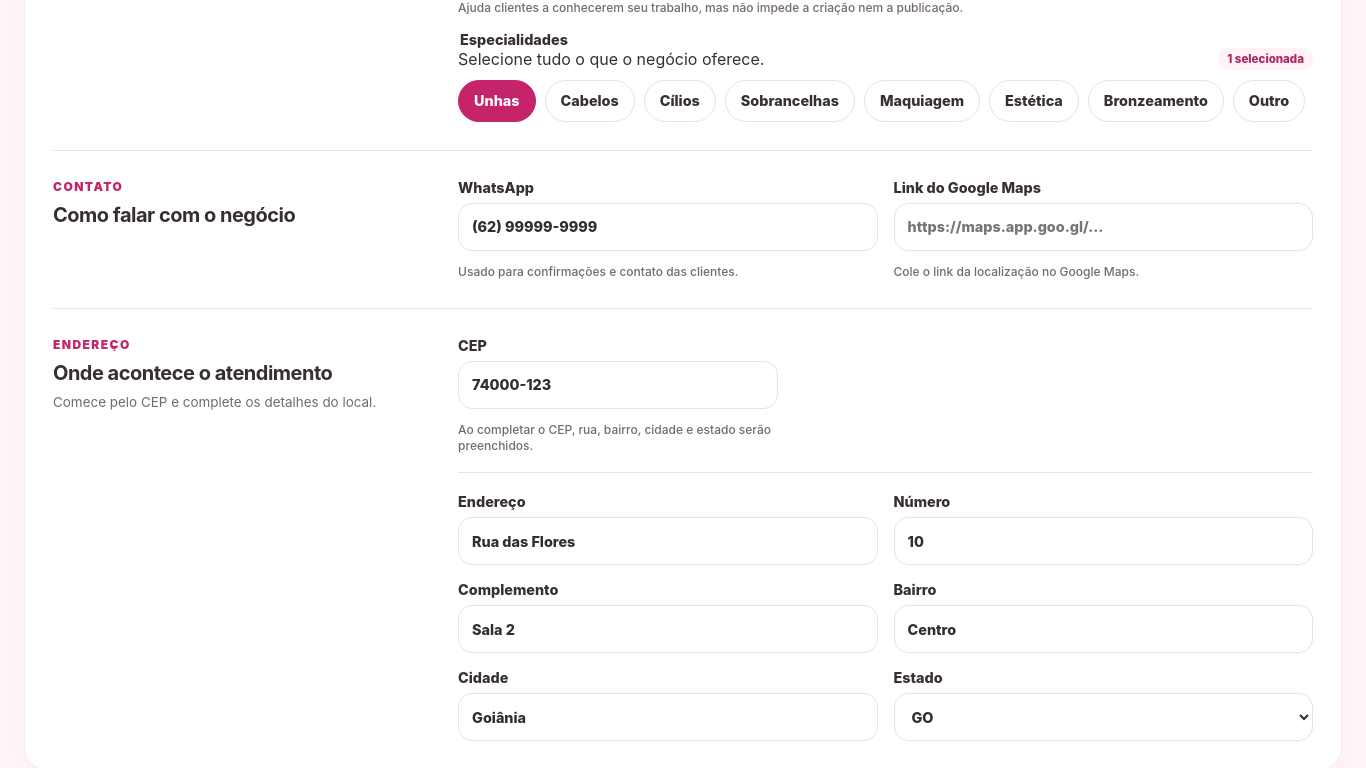
Test: publicação do negócio › preenche o endereço pelo backend ao completar um CEP válido
(page scrolled)
Replace the text in the field labelled "CEP" with "01001-000" at (618,385), box left=458, top=361, right=778, bottom=409
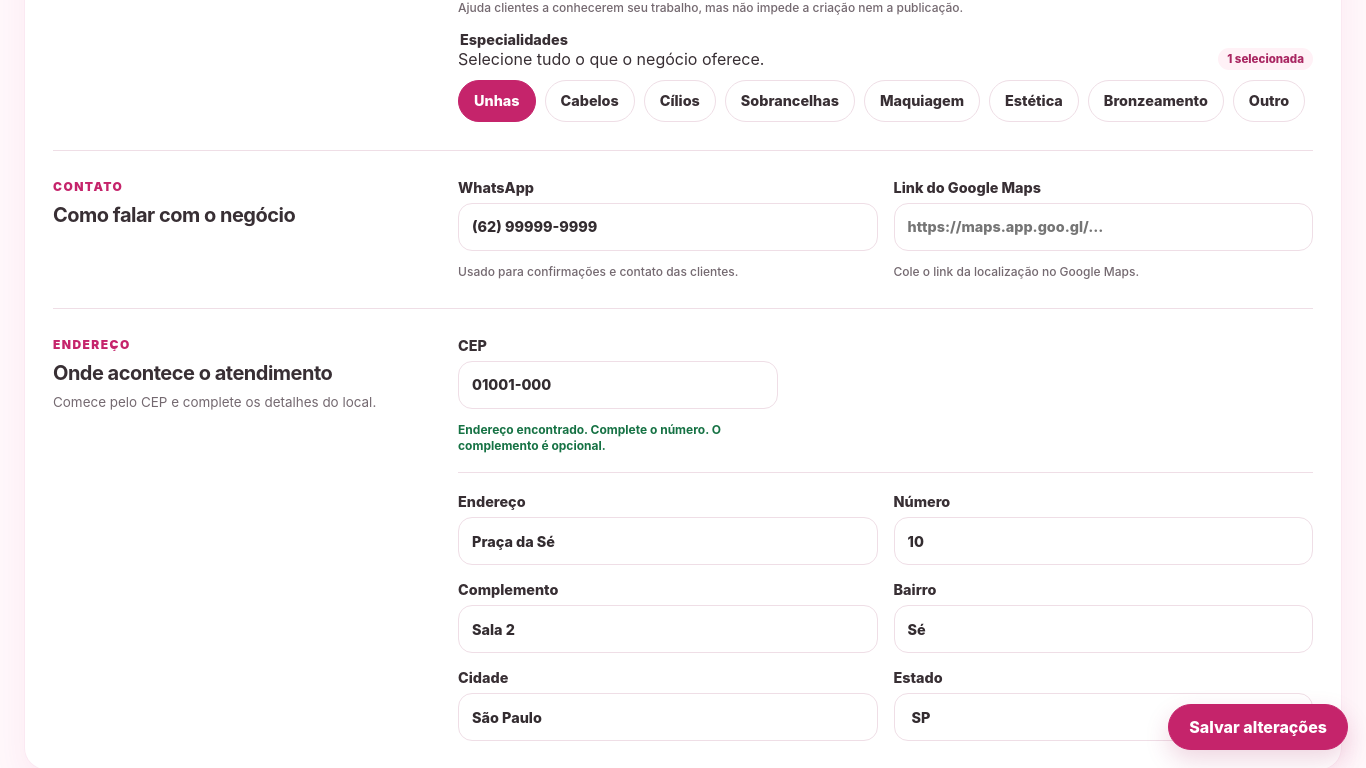
Check: the field labelled "Endereço" holds "Praça da Sé", box left=458, top=517, right=878, bottom=565
Check: the field labelled "Bairro" holds "Sé", box left=894, top=605, right=1313, bottom=653
Check: the field labelled "Cidade" holds "São Paulo", box left=458, top=693, right=878, bottom=741
